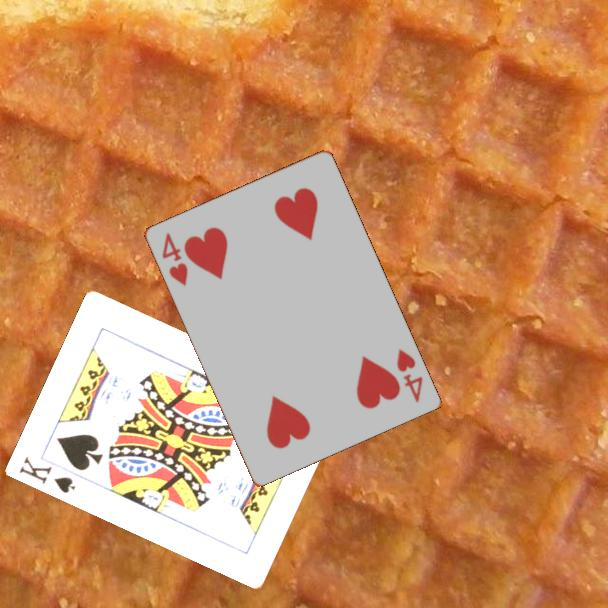h04: (393, 344, 425, 405), (158, 229, 190, 289)
s13: (16, 453, 78, 496)
